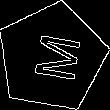M_W: (23, 30, 81, 85)
